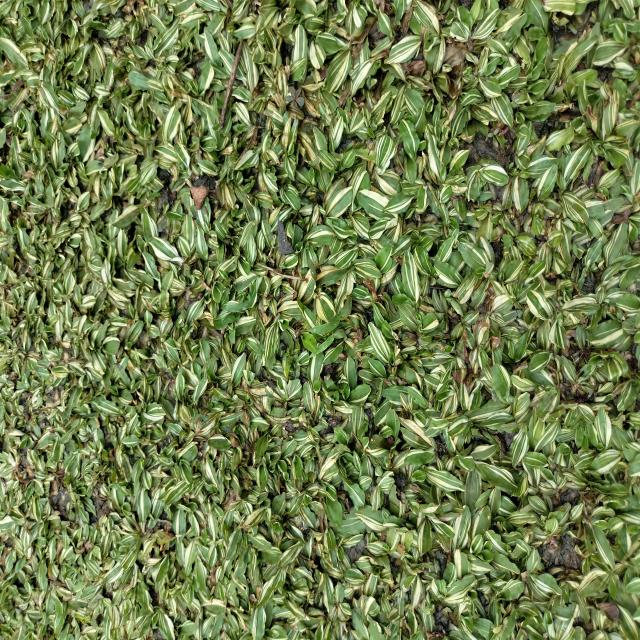buah daun: (283, 84, 306, 110)
rambat atas: (306, 294, 354, 336), (308, 328, 348, 360)
